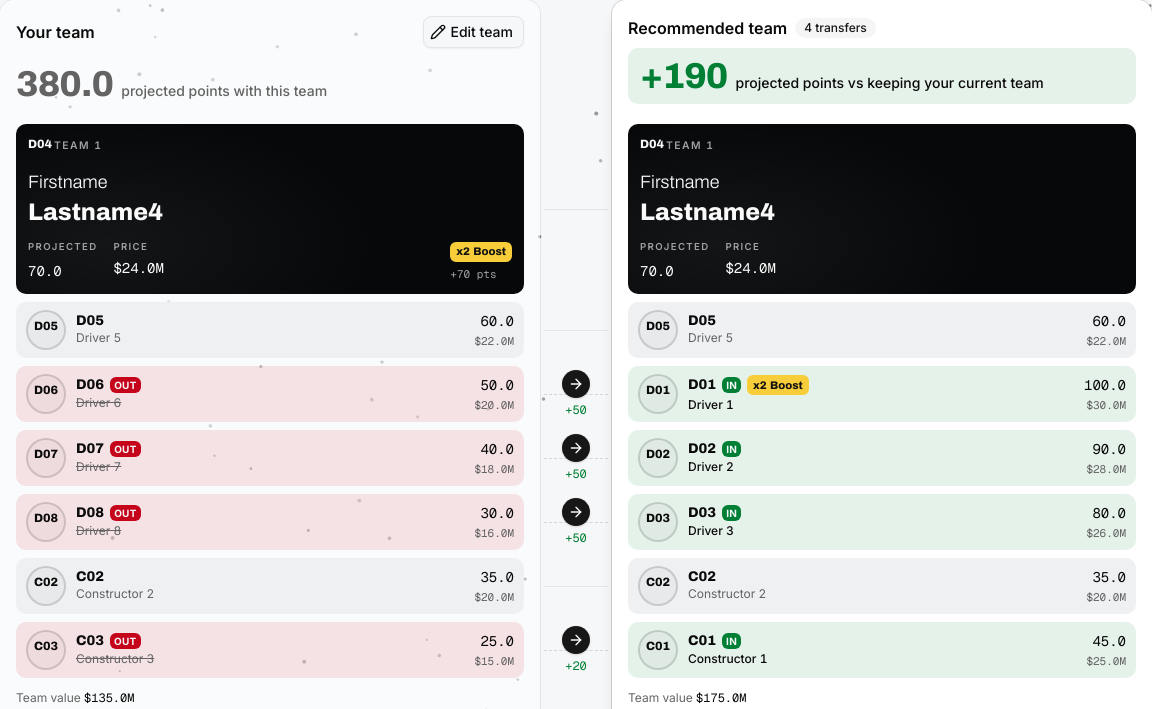
OPEN — team comparison › shows the saved team and opens the editor from Edit team
The image size is (1152, 709).
Click the button "Edit team" at (474, 32), box [424,16,524,48]
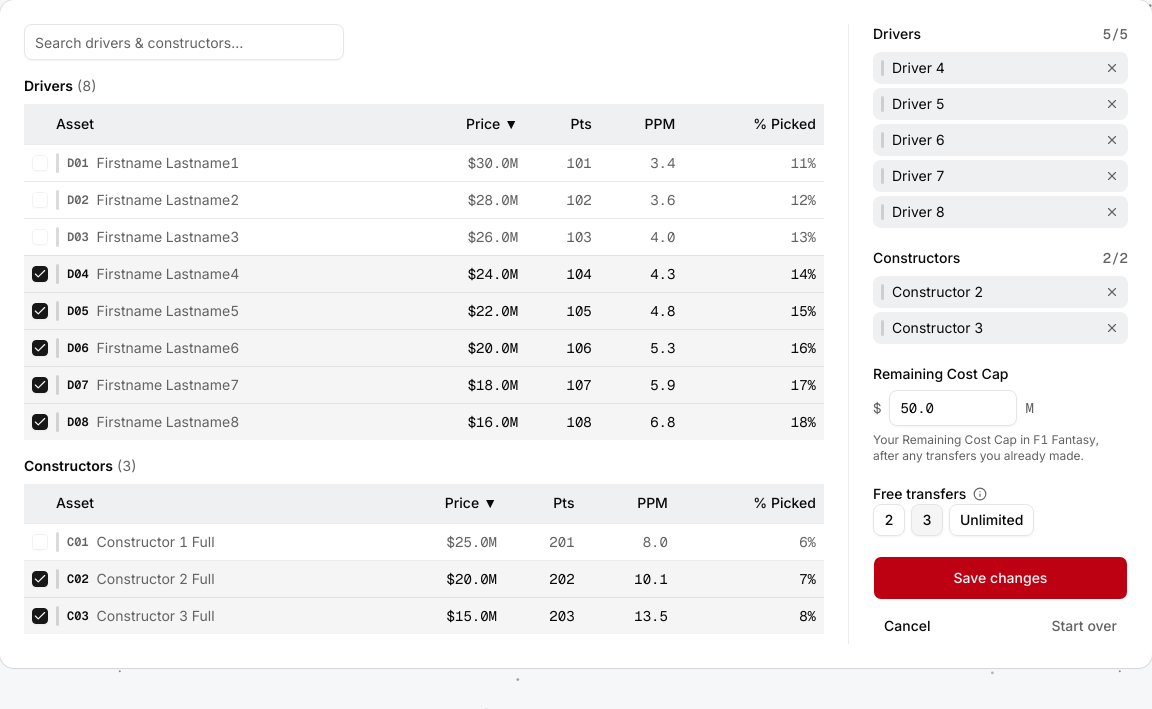
Now the heading "Your team" is gone
Now the search field named "Search drivers and constructors" is shown, box [24,24,344,60]
